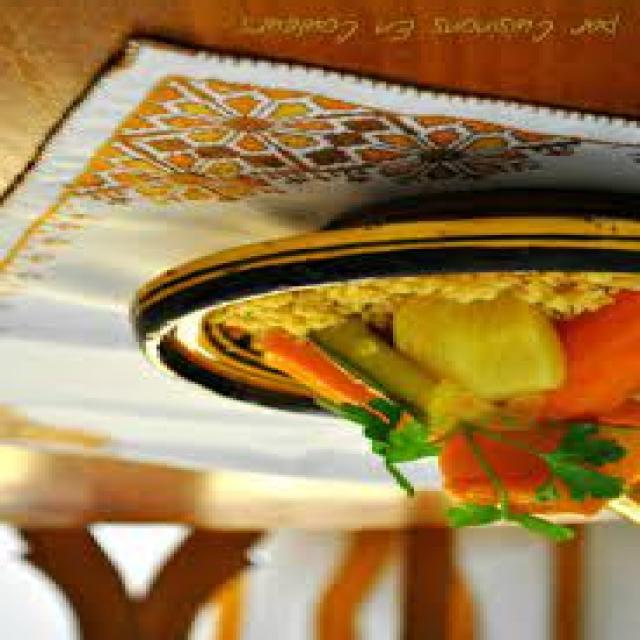Couscous: (208, 269, 636, 524)
